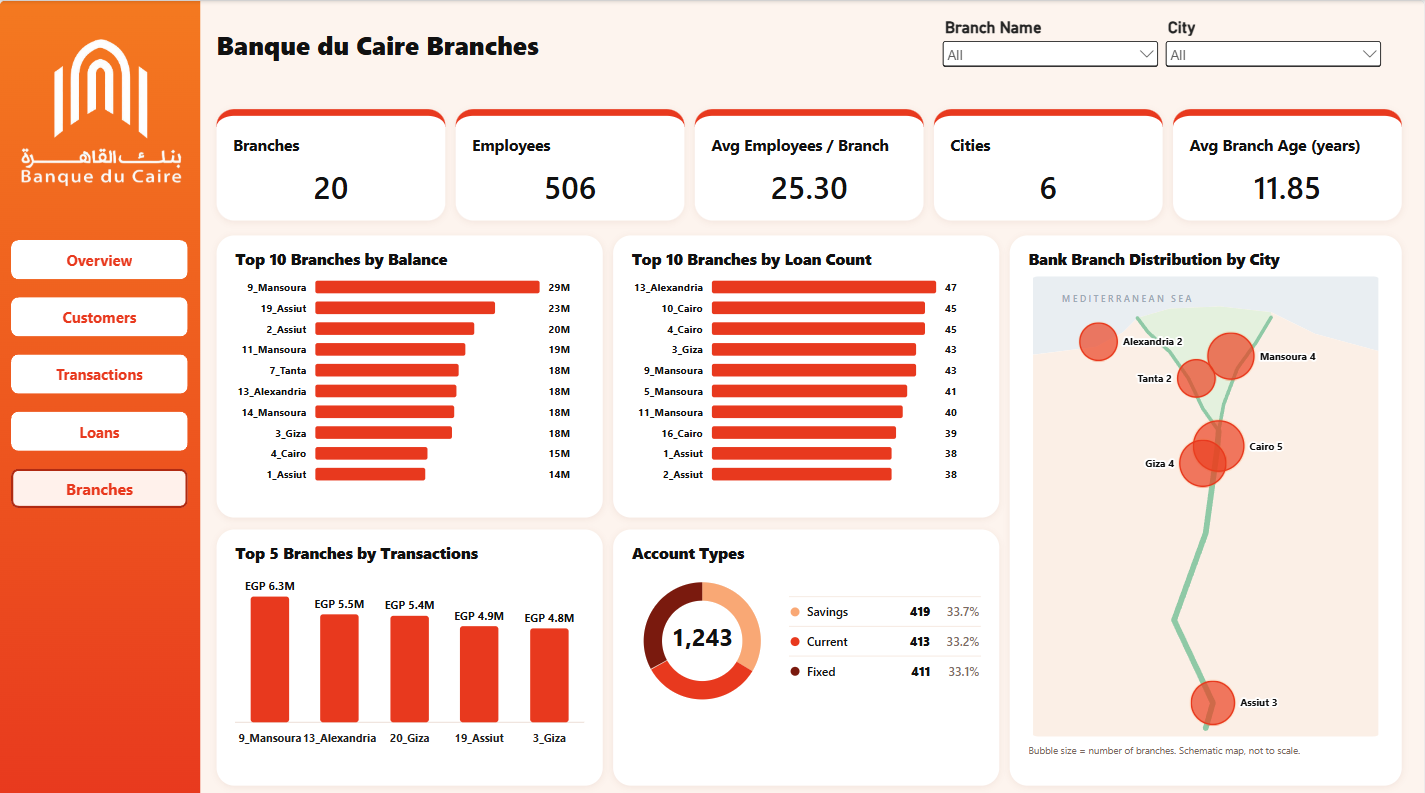

The page's visual inventory and layout, read from the dashboard file:
{"tool":"powerbi","page":{"name":"Branches","canvas":[1920,1080],"ordinal":5},"visuals":[{"type":"htmlContent443BE3AD55E043BF878BED274D3A6855","fields":{"content":["Html.HTML Banque Branches"]},"box":[0,0,1920,1080],"z":0},{"type":"image","box":[38.4,0,195,240.5],"z":1000},{"type":"image","box":[0,162.5,255,131.2],"z":2000},{"type":"slicer","fields":{"Values":["Branches Dim.City"]},"box":[1566.7,24.1,300,96.3],"z":3000},{"type":"pageNavigator","box":[16.7,323.3,238.9,361.1],"z":4000},{"type":"slicer","fields":{"Values":["Branches Dim.Branch_Name_City"]},"box":[1265.8,24.2,300,96.3],"z":5000}]}

Visuals, with their boxes in screenshot pixels (x1, y1, x2, y2), scaled from the page's 1920x1080 canvas onto the 1425x793 screenshot:
htmlContent443BE3AD55E043BF878BED274D3A6855 - Html.HTML Banque Branches: bbox(0, 0, 1424, 792)
image: bbox(28, 0, 173, 177)
image: bbox(0, 119, 189, 216)
slicer - Branches Dim.City: bbox(1163, 18, 1385, 88)
pageNavigator: bbox(12, 237, 190, 503)
slicer - Branches Dim.Branch_Name_City: bbox(939, 18, 1162, 88)
